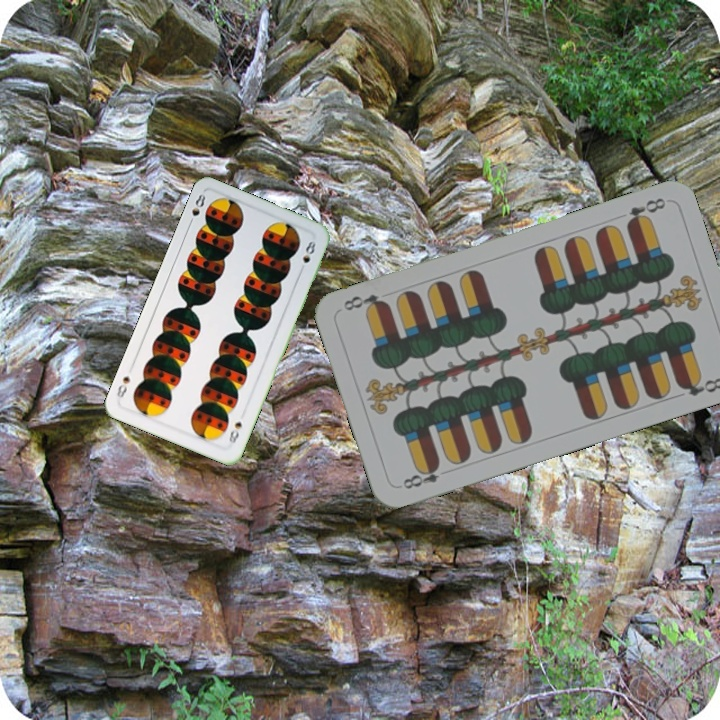E8: (622, 193, 668, 230), (399, 459, 443, 492)
S8: (184, 189, 208, 228), (225, 418, 245, 446)
